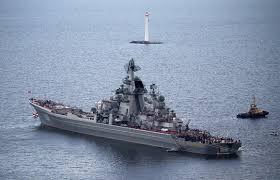tau_muctieu: (30, 70, 238, 158)
